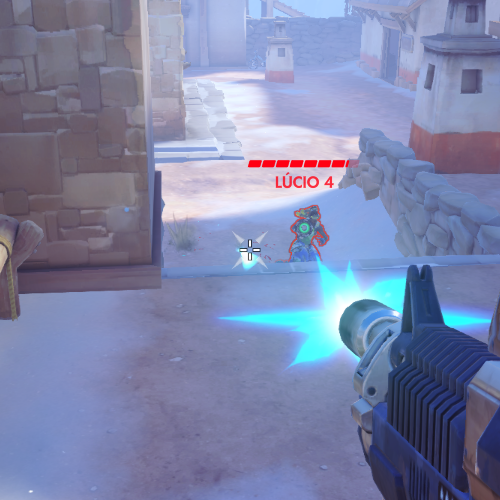hpbar: (247, 159, 360, 168)
